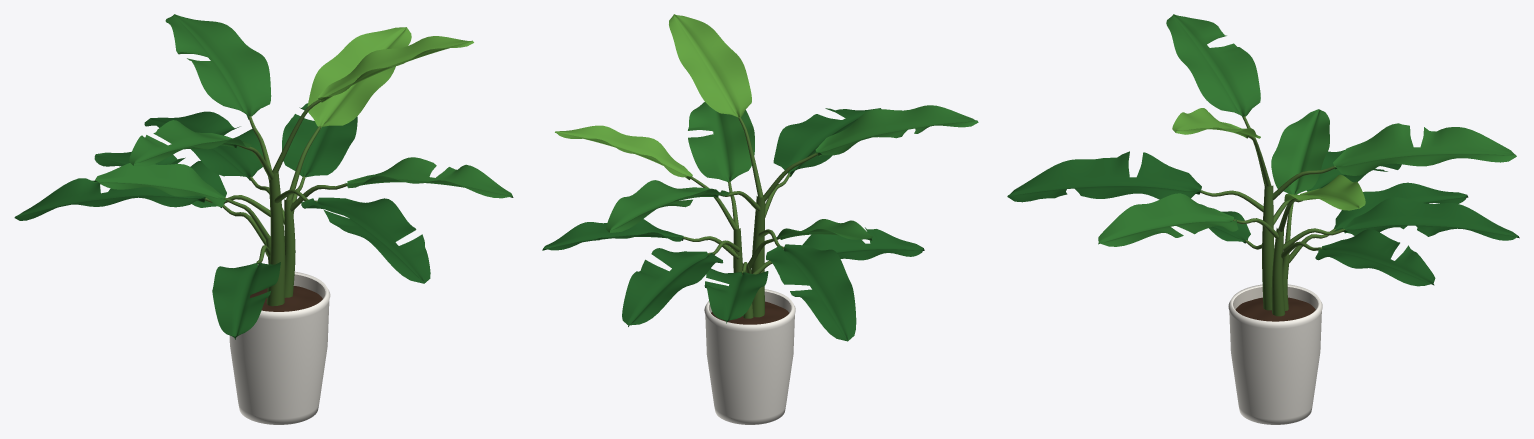
The model's file is tall_banana_plant_realistic.glb.
The picture shows the model from 3 angles, left to right: view 1: azimuth 30°, elevation 25°; view 2: azimuth 150°, elevation 25°; view 3: azimuth 270°, elevation 25°; orthographic projection. The views are drawn at different scales.
Visible parts, largest first — view 1: Tall_Banana_Leaf_Corridor_Planter; view 2: Tall_Banana_Leaf_Corridor_Planter; view 3: Tall_Banana_Leaf_Corridor_Planter.
Part boxes in pixels (left/top/right/bottom): Tall_Banana_Leaf_Corridor_Planter: left=14, top=14, right=513, bottom=424; Tall_Banana_Leaf_Corridor_Planter: left=542, top=14, right=978, bottom=424; Tall_Banana_Leaf_Corridor_Planter: left=1007, top=14, right=1519, bottom=424.
Bounding box in the file's own units: 1.5 × 1.42 × 1.93.
